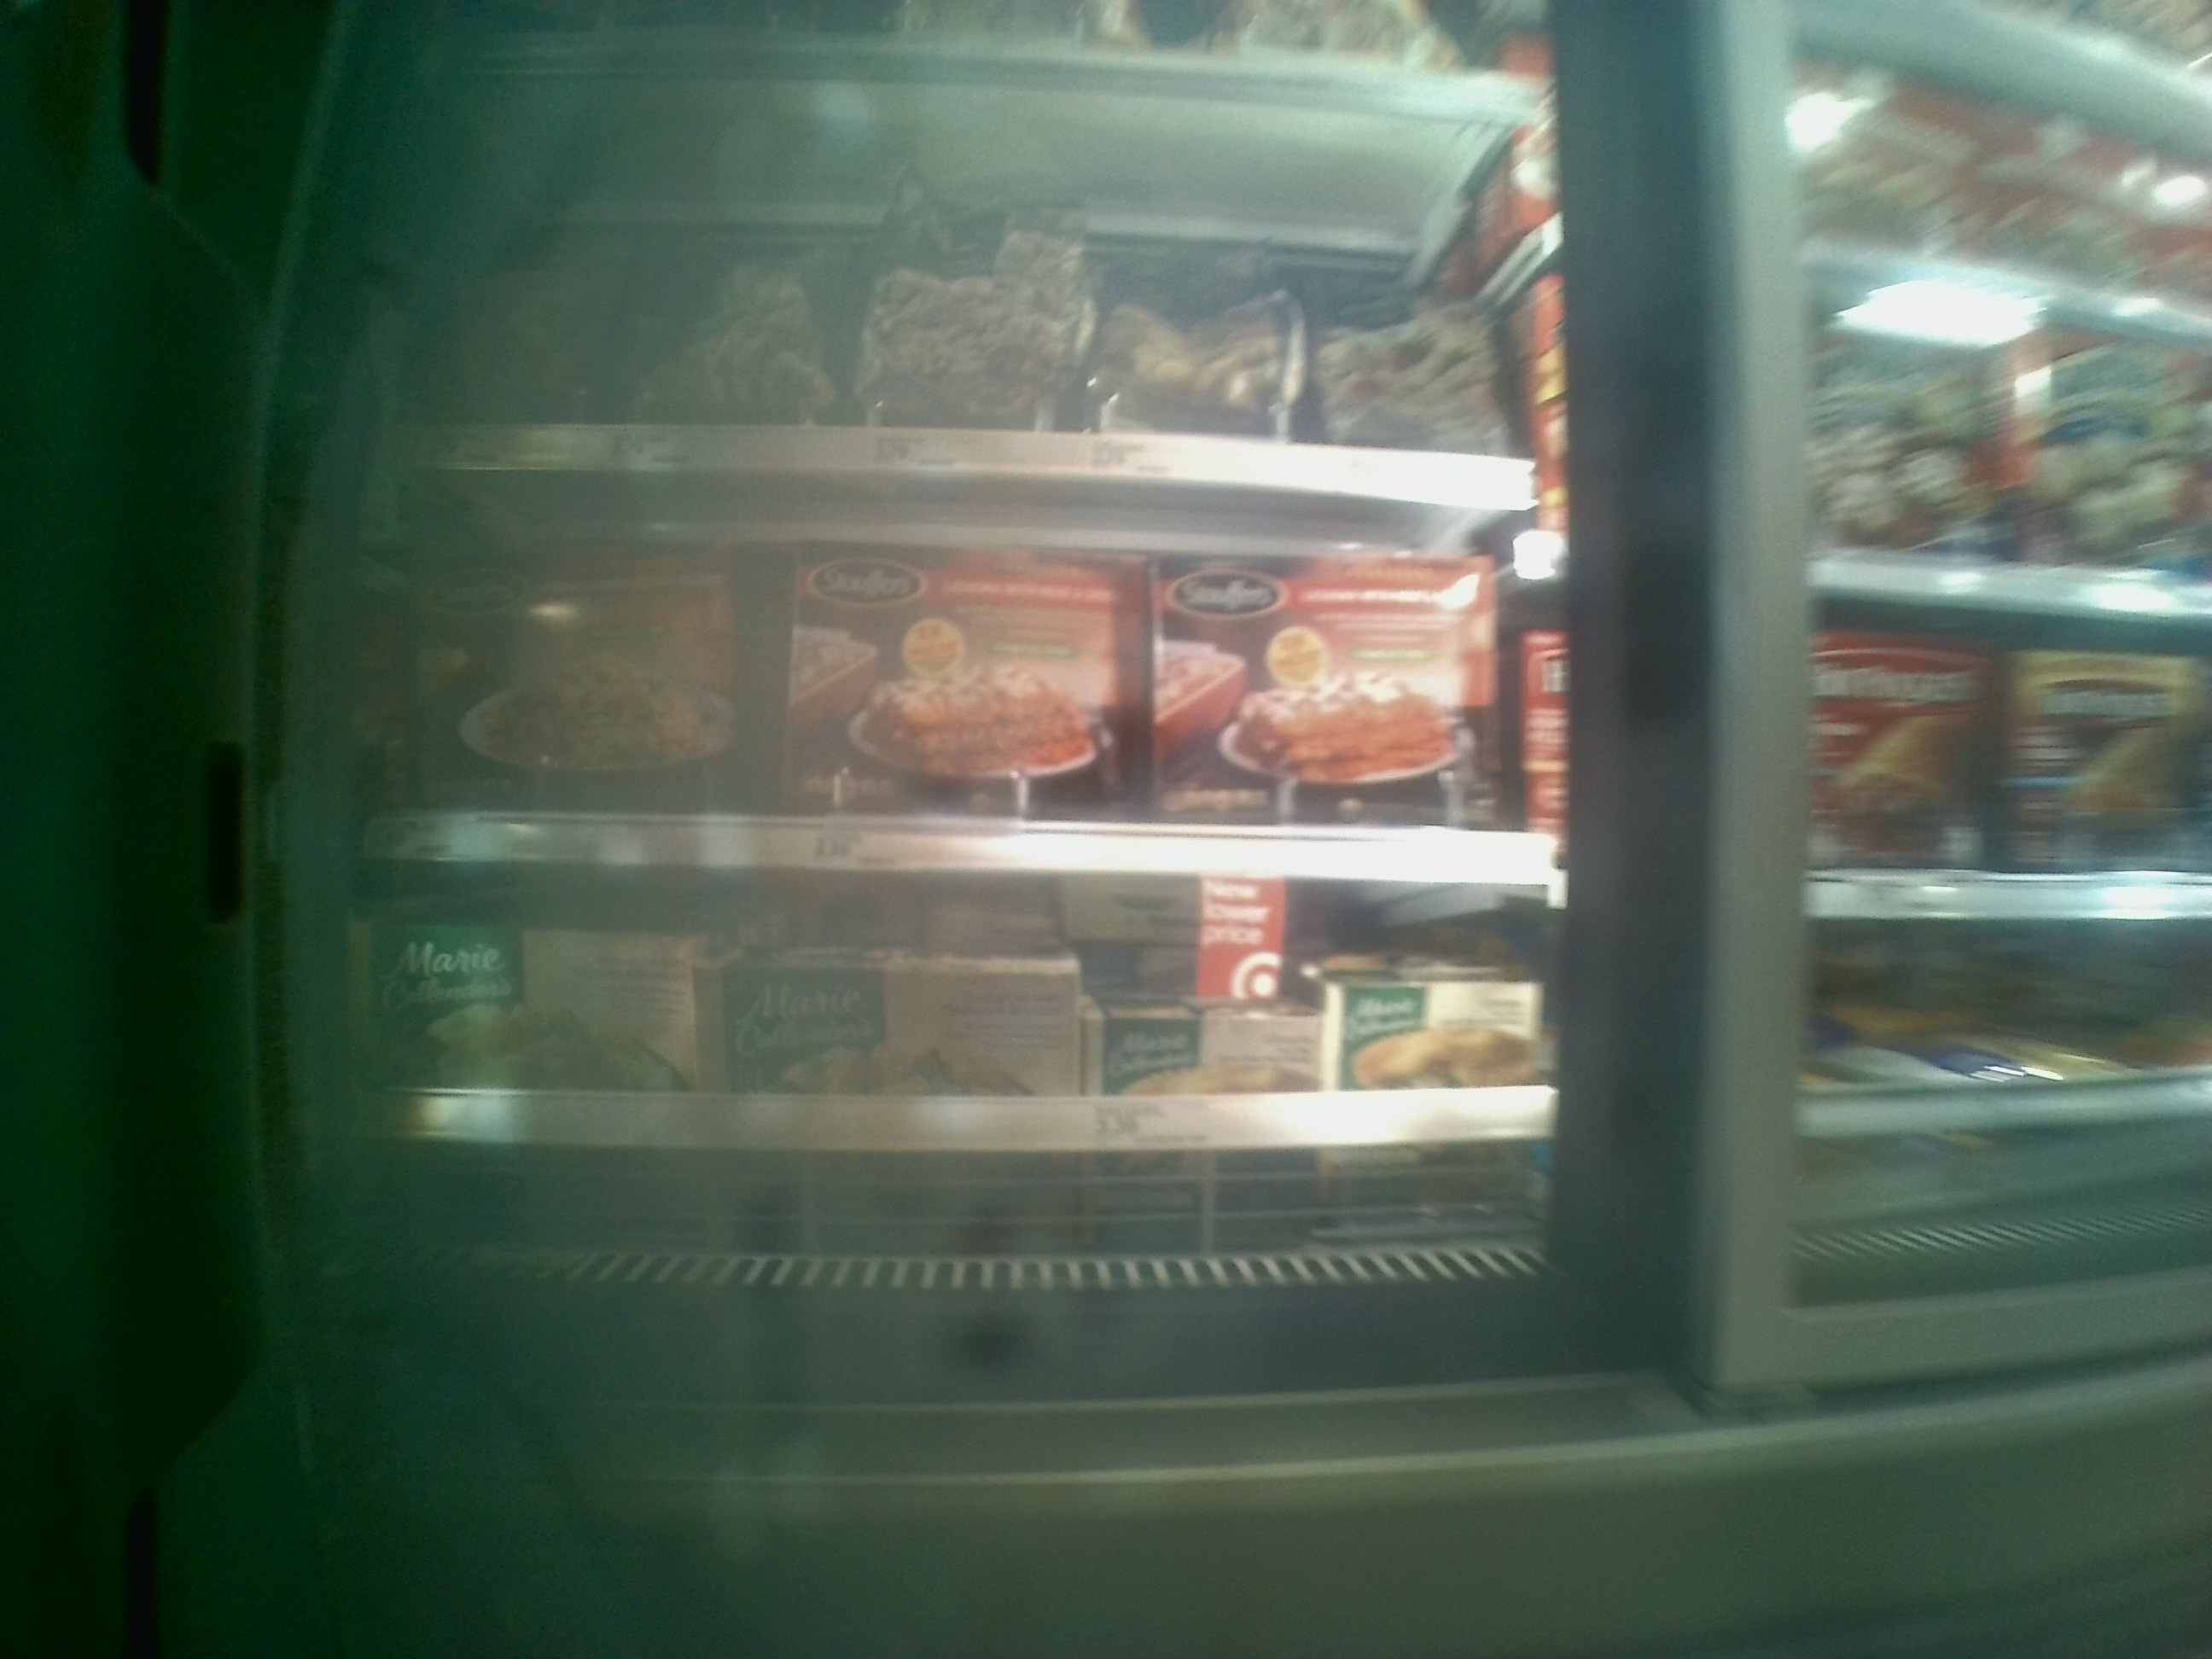shelf: (392, 863, 1575, 1253)
